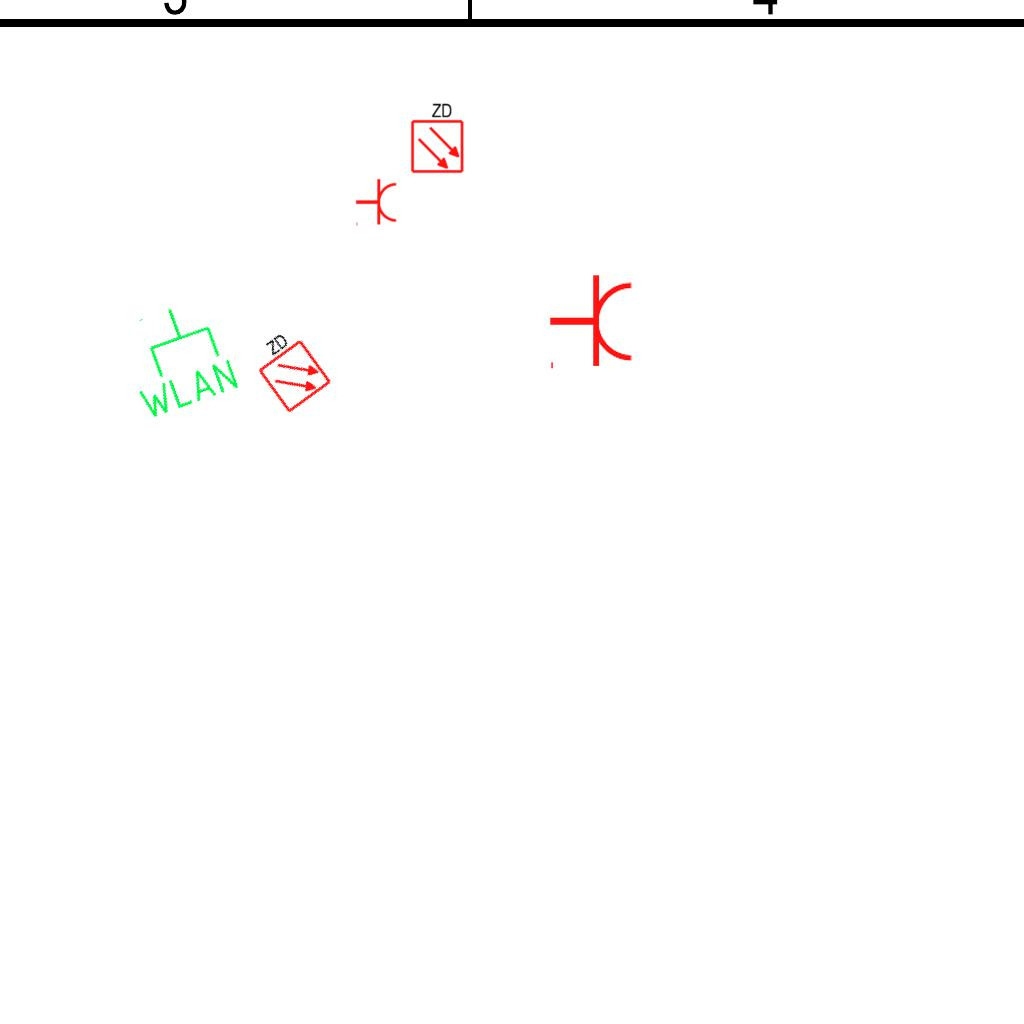Schukosteckdose_einfach: (548, 273, 635, 373), (355, 178, 398, 228)
WLAN: (109, 291, 245, 426)
ZD_Melder_in_Zwischendecke_mit_Revisionsoeffnung_mind_40_x_40_cm: (243, 322, 334, 416), (408, 100, 465, 174)
